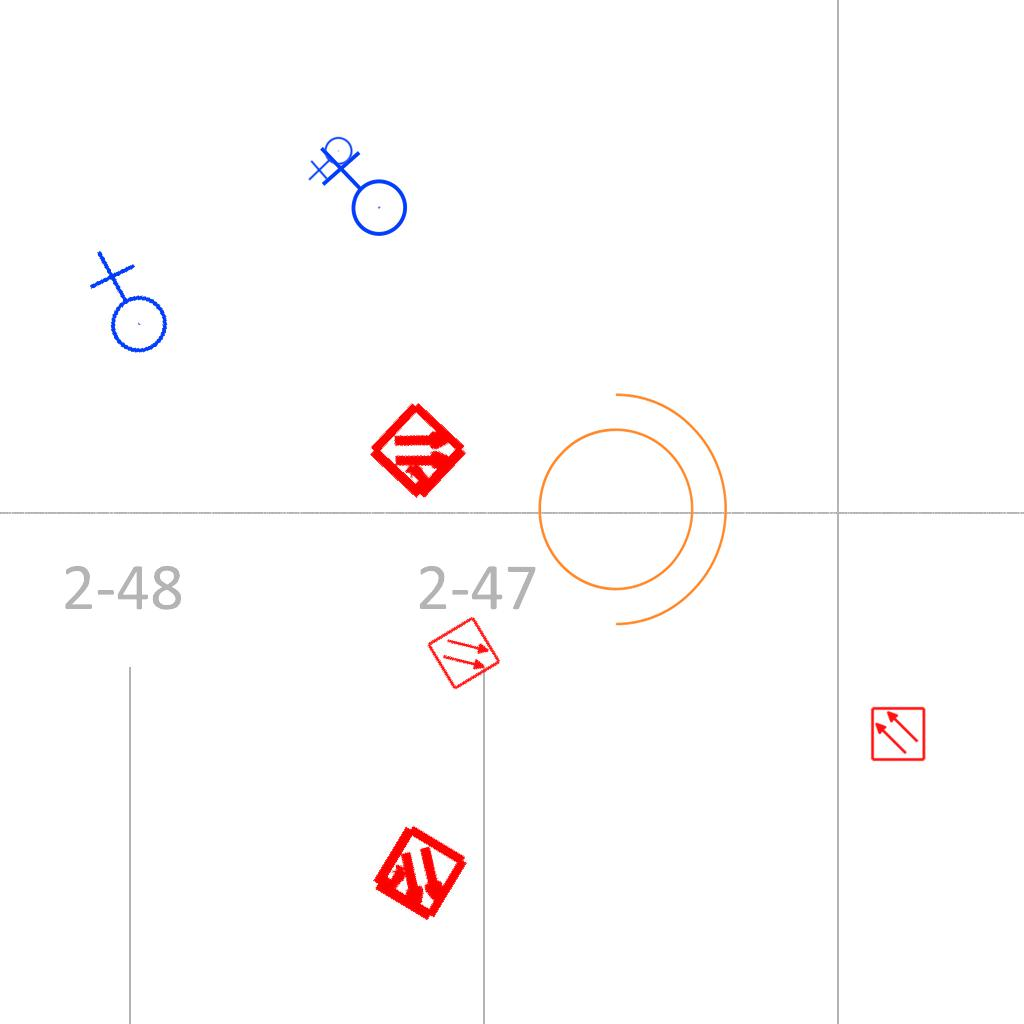Elektroanschluss_allgemein_230V_Geraeteanschlussdose_230V: (67, 248, 184, 368), (315, 146, 409, 245), (308, 136, 357, 183)
OT_Multisensormelder_(Kombination_RMO_WMD): (339, 372, 500, 533), (340, 796, 497, 953)
RMO_Rauchmelder_optischer: (425, 614, 503, 692), (870, 706, 926, 762)
Scheinwerfer_fuer_Alarmbeleuchtung: (513, 371, 738, 635)
